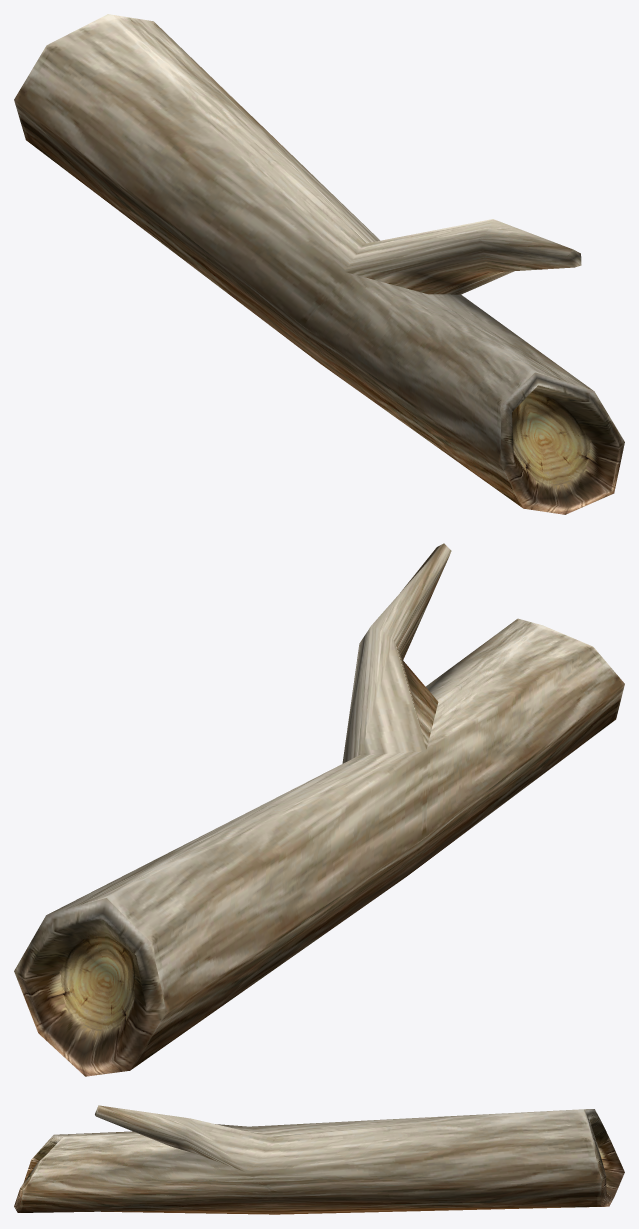
File: redridgefallentree02.obj
3 views of the same model, one above another, from view 1: azimuth 30°, elevation 25°; view 2: azimuth 150°, elevation 25°; view 3: azimuth 270°, elevation 25° (orthographic). The views are drawn at different scales.
Parts seen in each view (by area): view 1: REDRIDGEFALLENTREE020, REDRIDGEFALLENTREE021; view 2: REDRIDGEFALLENTREE020, REDRIDGEFALLENTREE021; view 3: REDRIDGEFALLENTREE020, REDRIDGEFALLENTREE021.
Part boxes in pixels (bbox=[...]): REDRIDGEFALLENTREE020: bbox=[14, 14, 593, 508]; REDRIDGEFALLENTREE021: bbox=[500, 372, 624, 514]; REDRIDGEFALLENTREE020: bbox=[47, 543, 624, 1070]; REDRIDGEFALLENTREE021: bbox=[14, 898, 166, 1076]; REDRIDGEFALLENTREE020: bbox=[18, 1105, 601, 1214]; REDRIDGEFALLENTREE021: bbox=[14, 1109, 624, 1212].
Bounding box in the file's own units: 2.39 × 3.1 × 13.26.
2 materials, 2 textured.
